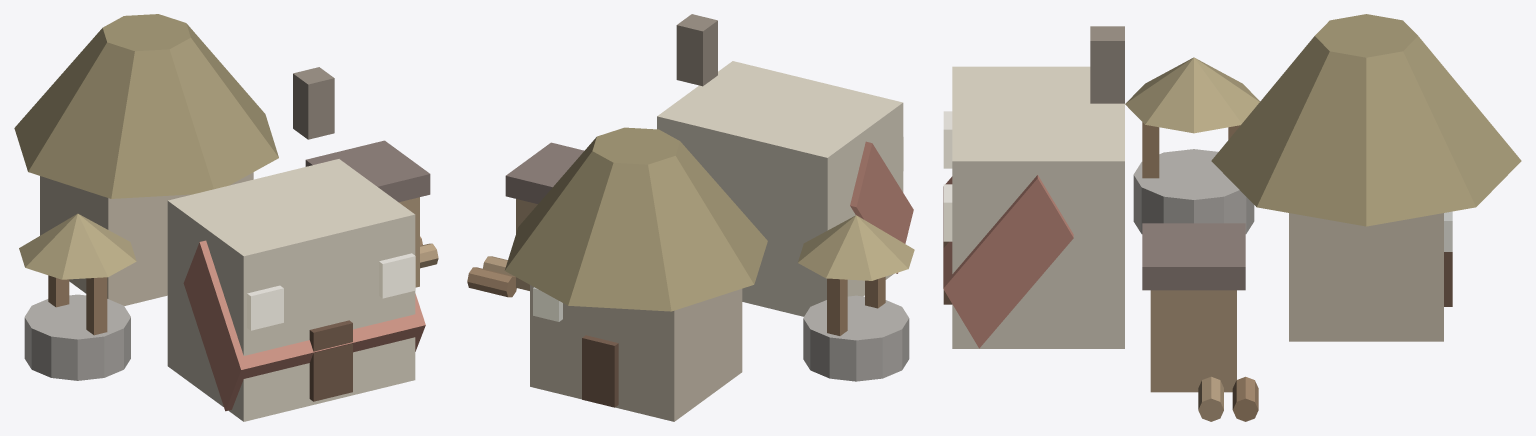
File: city-village-0.glb
3 renders of one model, left to right at view 1: azimuth 30°, elevation 25°; view 2: azimuth 150°, elevation 25°; view 3: azimuth 270°, elevation 25°, orthographic. The views are drawn at different scales.
Parts seen in each view (by area): view 1: city-village-0; view 2: city-village-0; view 3: city-village-0.
Boxes of the visible parts, x1,y1,x2,y2 form: city-village-0: (14, 14, 438, 421); city-village-0: (467, 14, 914, 421); city-village-0: (943, 14, 1521, 421).
Bounding box in the file's own units: 0.63 × 0.38 × 0.6706.
